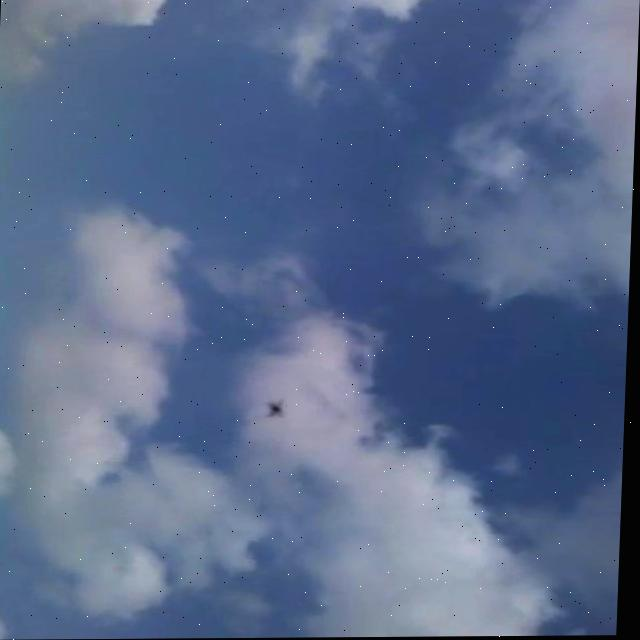drone: (266, 399, 294, 423)
